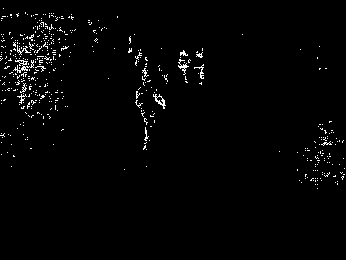person: (133, 73, 166, 153)
